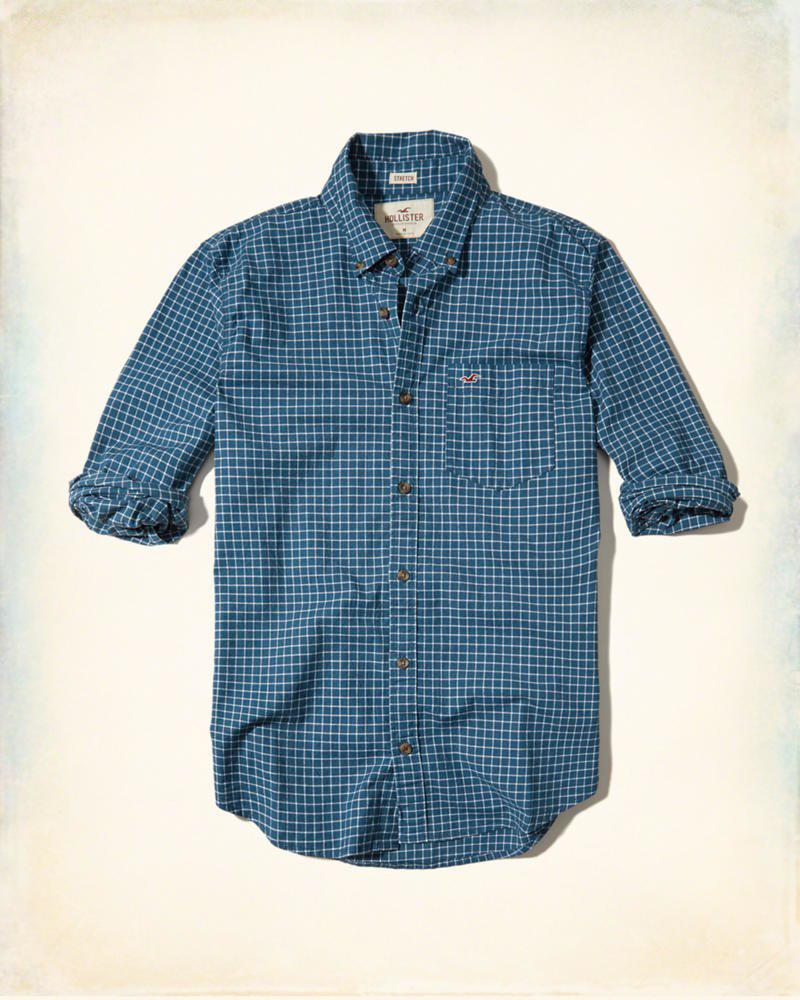teeshirt: (55, 133, 742, 862)
